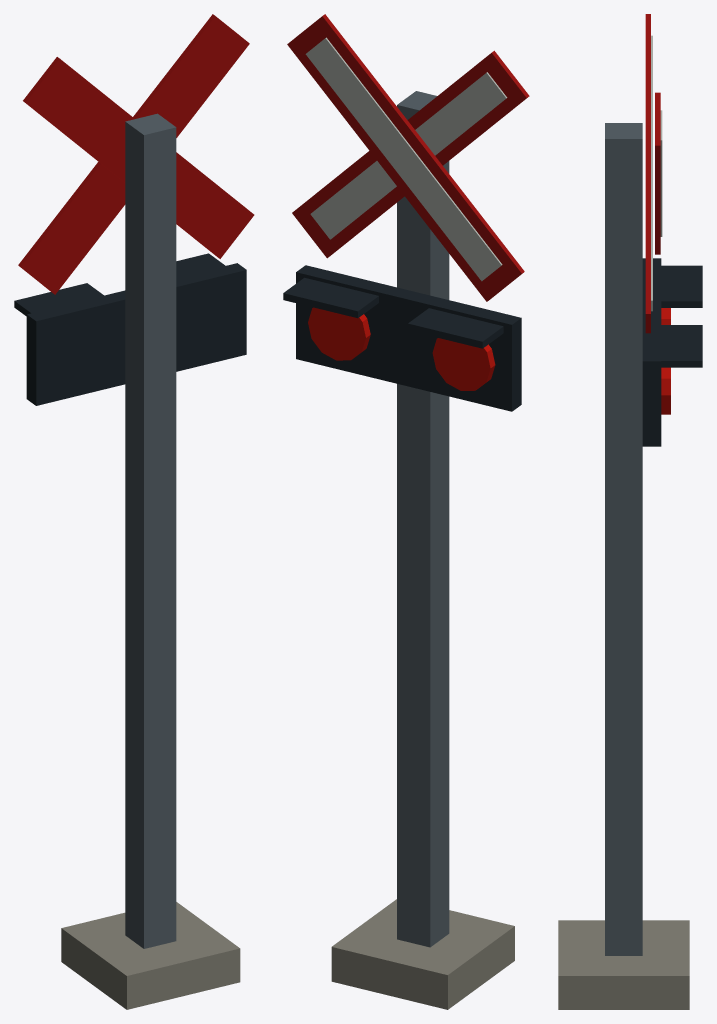
File: crossing-signal.glb
The picture shows the model from 3 angles, left to right: view 1: azimuth 30°, elevation 25°; view 2: azimuth 150°, elevation 25°; view 3: azimuth 270°, elevation 25°; orthographic projection. The views are drawn at different scales.
Parts seen in each view (by area): view 1: crossing-signal; view 2: crossing-signal; view 3: crossing-signal.
Part boxes in pixels (x1,y1,x2,y2): crossing-signal: (14,14,254,1009); crossing-signal: (283,14,529,1009); crossing-signal: (558,14,702,1009).
Size of the model in its own units: 2.83 by 10.91 by 1.54.
